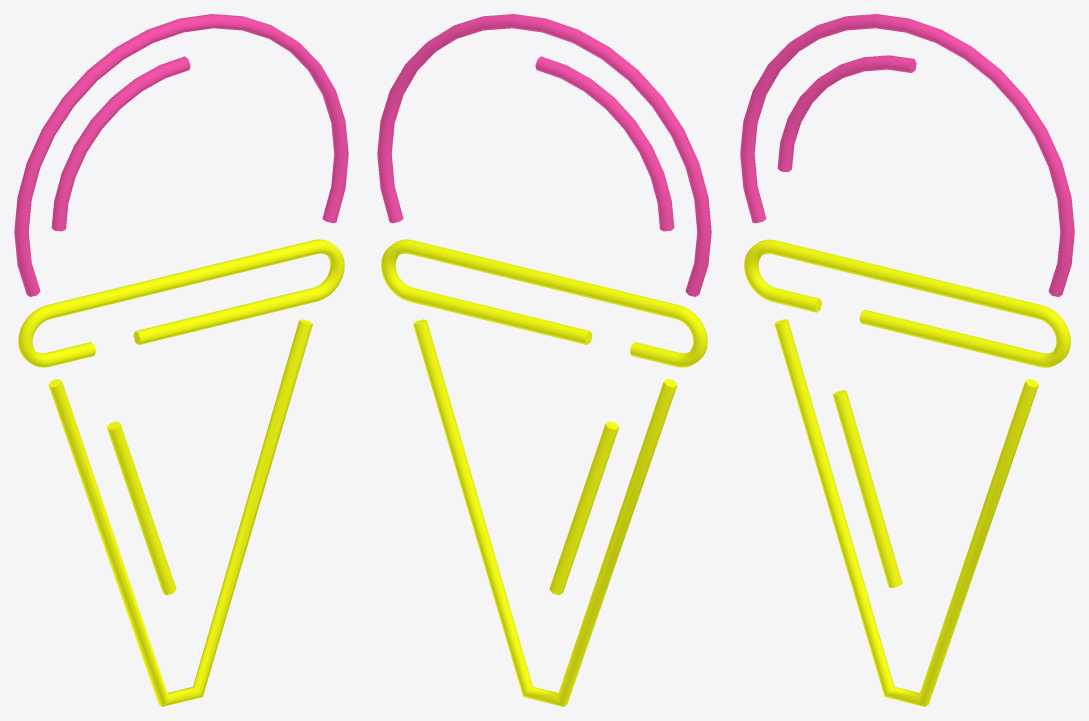
The model's file is 2b596373-5e94-438c-aba9-42812936401e.glb.
3 renders of one model, left to right at view 1: azimuth 30°, elevation 25°; view 2: azimuth 150°, elevation 25°; view 3: azimuth 330°, elevation 25°, orthographic.
Parts seen in each view (by area): view 1: IceCream - 868 tris; view 2: IceCream - 868 tris; view 3: IceCream - 868 tris.
Boxes of the visible parts, bbox=[...] form: IceCream - 868 tris: bbox=[14, 14, 348, 706]; IceCream - 868 tris: bbox=[377, 14, 711, 706]; IceCream - 868 tris: bbox=[740, 14, 1074, 706].
Bounding box in the file's own units: 0.3955 × 0.7775 × 0.015.
Materials: 1 (1 with a texture image).
